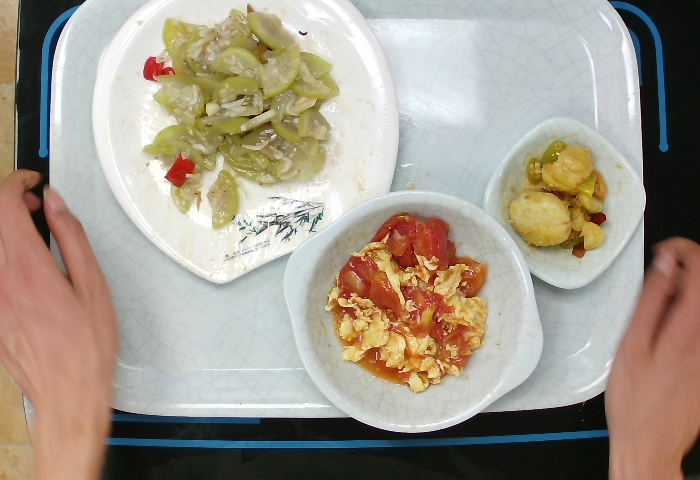JYsf-Mian_Pan: (91, 1, 404, 292)
JYsf-Shuang_Er_Wan: (278, 190, 549, 436)
JYsf-Si_Fang_Die: (472, 119, 649, 296)
